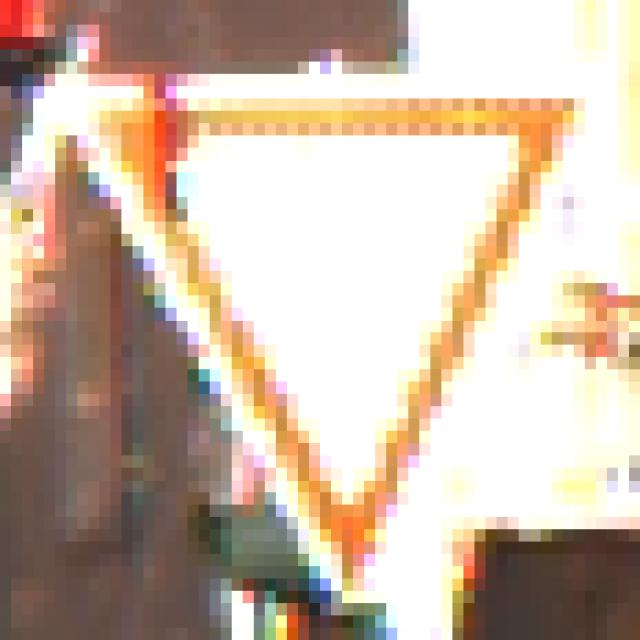Give Way: (67, 63, 586, 580)
